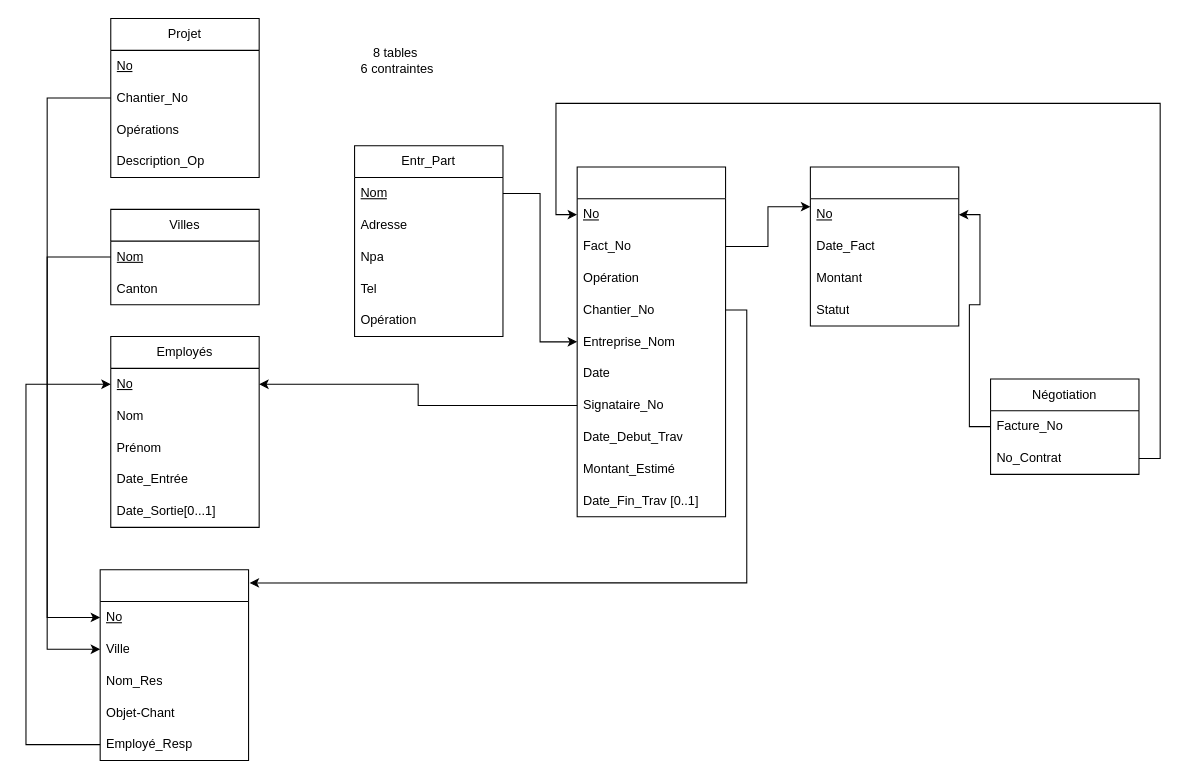
This 1187x779 diagram has some shape labels left out. Here are the shapes that lost their labels. From the top down, the box of each, then its label:
(809, 166, 959, 326): Facture
(576, 166, 726, 517): Contrat
(99, 569, 249, 761): Chantier
